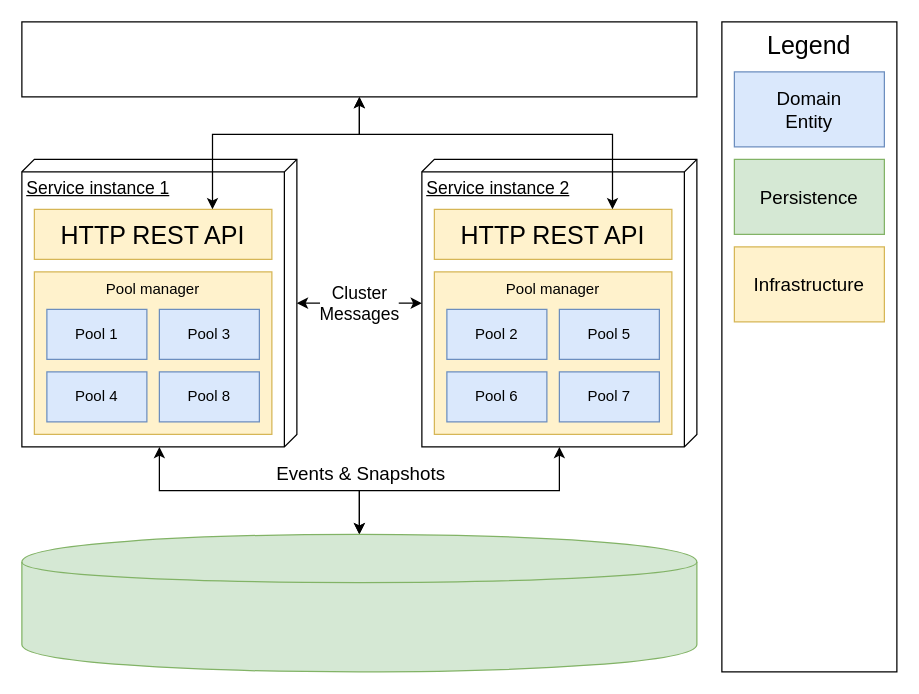
The diagram is 919 pixels wide and 694 high, and some of its shapes have lost their labels. The centre of each missing label's shape, as x and y in pixels:
Load Balancer (external): the point at 359,59
Persistent Event & Snapshot Store: the point at 359,602
